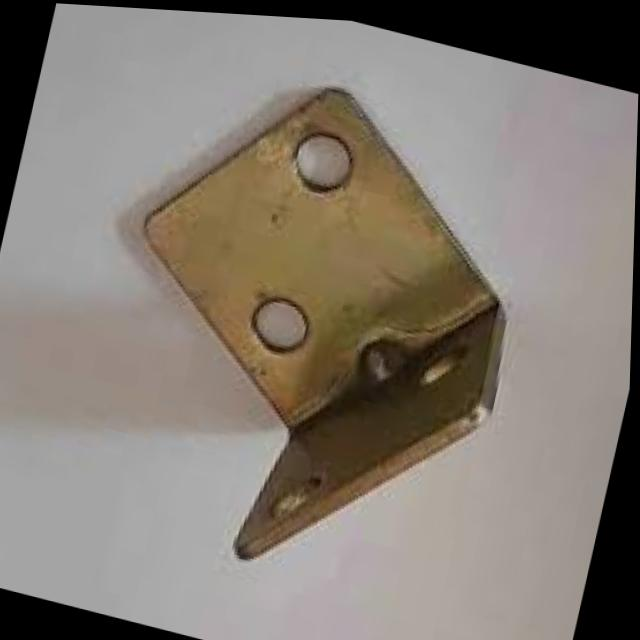holes: (289, 124, 360, 196), (248, 289, 318, 358)
